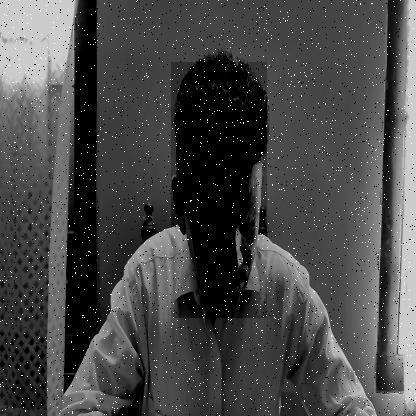Distracted: (171, 62, 267, 318)
